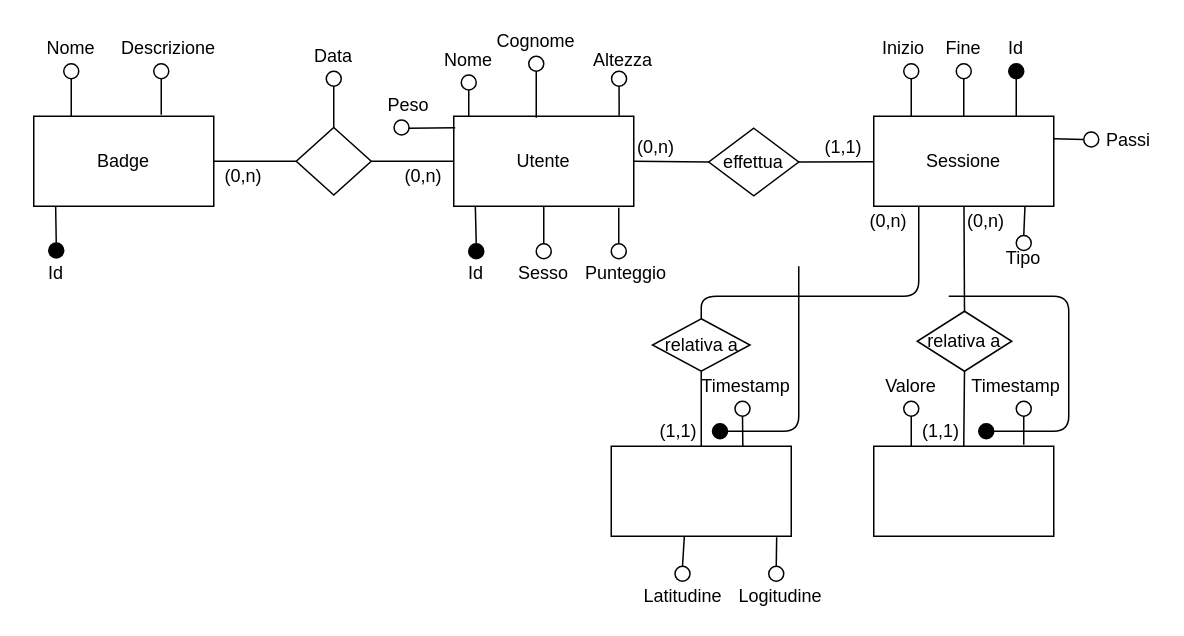
This 1184x636 diagram has some shape labels left out. Each missing label, with the box of its shape:
Frequenza cardiaca: (872, 445, 1054, 536)
ottiene: (295, 126, 371, 195)
Posizione: (610, 445, 791, 536)
